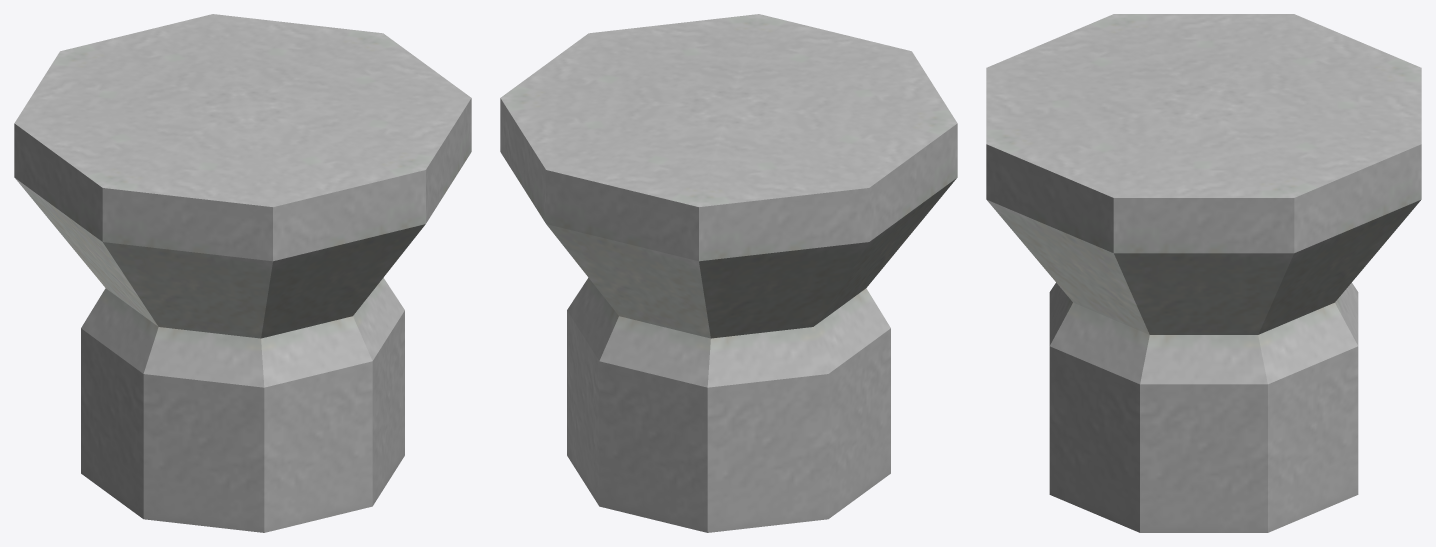
The model's file is general_obj_bigtower11.fbx.
3 renders of one model, left to right at view 1: azimuth 30°, elevation 25°; view 2: azimuth 150°, elevation 25°; view 3: azimuth 270°, elevation 25°, orthographic. The views are drawn at different scales.
Visible parts, largest first — view 1: Sphere01; view 2: Sphere01; view 3: Sphere01.
Boxes of the visible parts, bbox=[...] form: Sphere01: bbox=[14, 14, 471, 532]; Sphere01: bbox=[500, 14, 957, 532]; Sphere01: bbox=[986, 14, 1421, 532].
Bounding box in the file's own units: 4.31 × 4 × 4.31.
